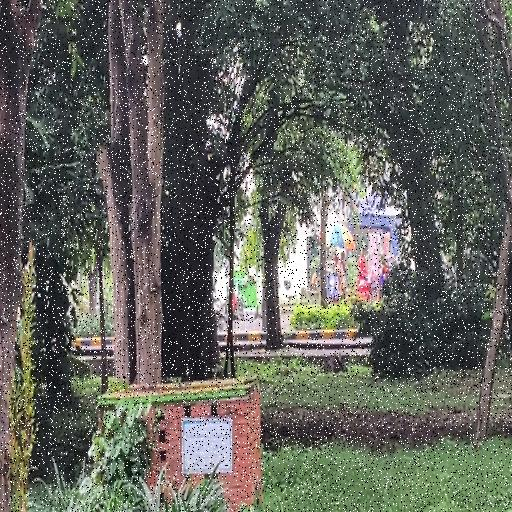Motor: (214, 300, 227, 332)
